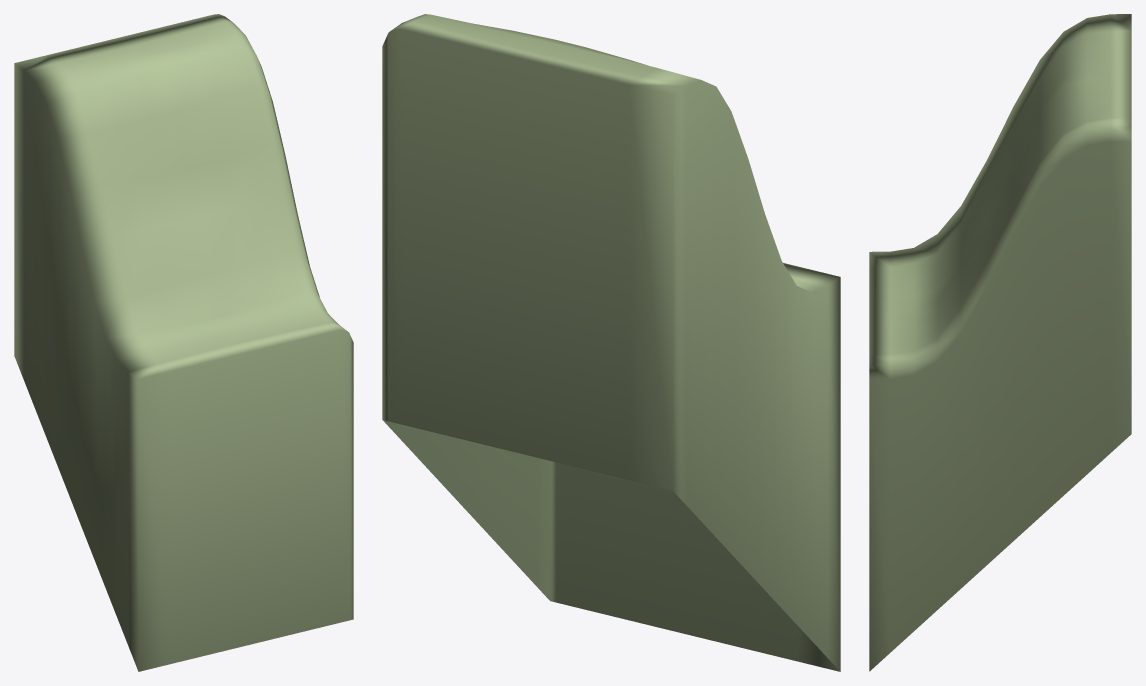
Rendered from ground-ramp-r-22.glb.
3 renders of one model, left to right at view 1: azimuth 30°, elevation 25°; view 2: azimuth 150°, elevation 25°; view 3: azimuth 270°, elevation 25°, orthographic. The views are drawn at different scales.
Visible parts, largest first — view 1: ground-ramp-r-22; view 2: ground-ramp-r-22; view 3: ground-ramp-r-22.
Boxes of the visible parts, bbox=[...] form: ground-ramp-r-22: bbox=[14, 14, 353, 671]; ground-ramp-r-22: bbox=[382, 14, 840, 671]; ground-ramp-r-22: bbox=[869, 14, 1131, 671].
Size of the model in its own units: 1 by 2.3 by 1.
